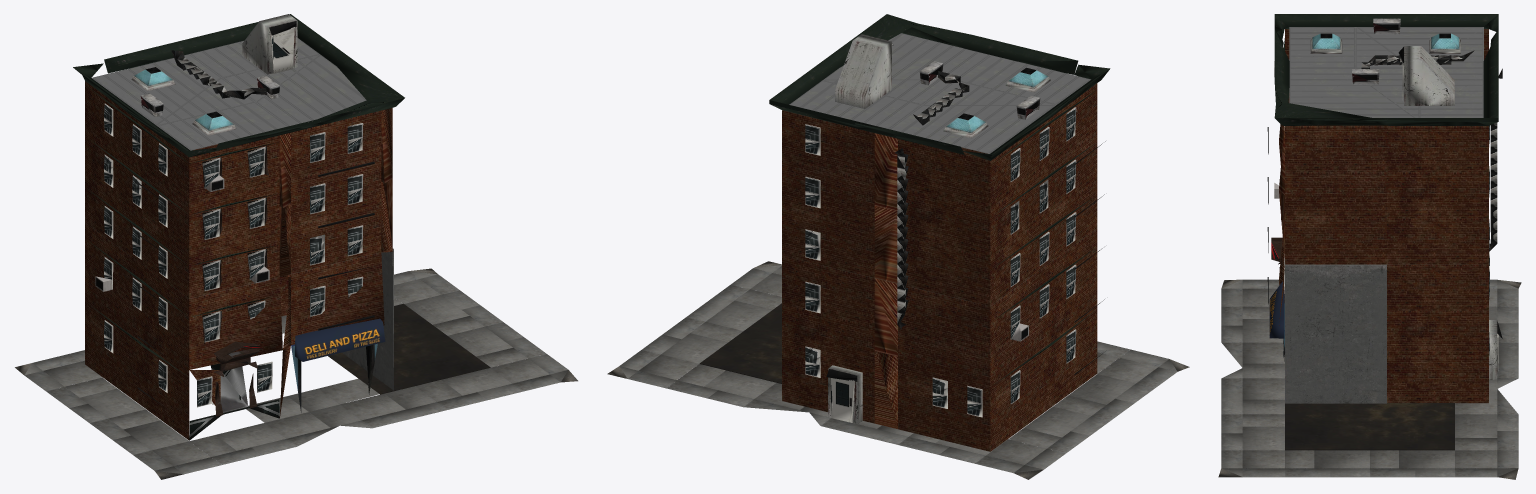
Rendered from chung-cu.glb.
3 renders of one model, left to right at view 1: azimuth 30°, elevation 25°; view 2: azimuth 150°, elevation 25°; view 3: azimuth 270°, elevation 25°, orthographic. The views are drawn at different scales.
Parts seen in each view (by area): view 1: brick.4_4, concrete.7_7, other_bits.6_6, wall_roof_rollup.2_2, cornices_and_trim.5_5, asphalt.3_3; view 2: brick.4_4, concrete.7_7, other_bits.6_6, wall_roof_rollup.2_2, cornices_and_trim.5_5, asphalt.3_3; view 3: brick.4_4, wall_roof_rollup.2_2, concrete.7_7, other_bits.6_6, asphalt.3_3, cornices_and_trim.5_5.
Part boxes in pixels (x1,y1,x2,y2): brick.4_4: (85, 81, 392, 440); concrete.7_7: (15, 268, 577, 479); other_bits.6_6: (95, 14, 385, 416); wall_roof_rollup.2_2: (92, 38, 393, 412); cornices_and_trim.5_5: (73, 14, 404, 375); asphalt.3_3: (328, 303, 490, 394); brick.4_4: (782, 83, 1097, 451); concrete.7_7: (607, 261, 1189, 479); other_bits.6_6: (805, 34, 1105, 423); wall_roof_rollup.2_2: (789, 33, 1090, 153); cornices_and_trim.5_5: (769, 14, 1110, 384); asphalt.3_3: (699, 303, 781, 383); brick.4_4: (1279, 29, 1488, 403); wall_roof_rollup.2_2: (1283, 27, 1483, 403); concrete.7_7: (1218, 279, 1521, 479); other_bits.6_6: (1267, 18, 1502, 379); asphalt.3_3: (1285, 403, 1454, 450); cornices_and_trim.5_5: (1274, 14, 1498, 125).
Bounding box in the file's own units: 0.9947 × 0.7627 × 0.6375.
6 materials, 6 textured.
